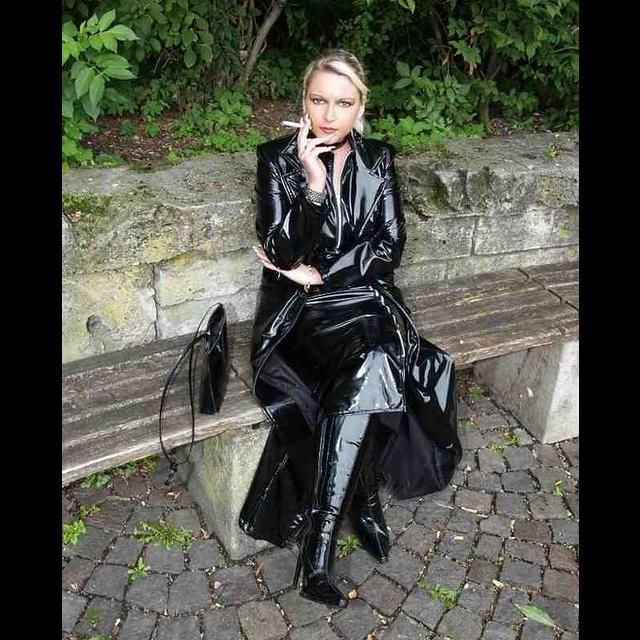rokok: (281, 116, 299, 130)
